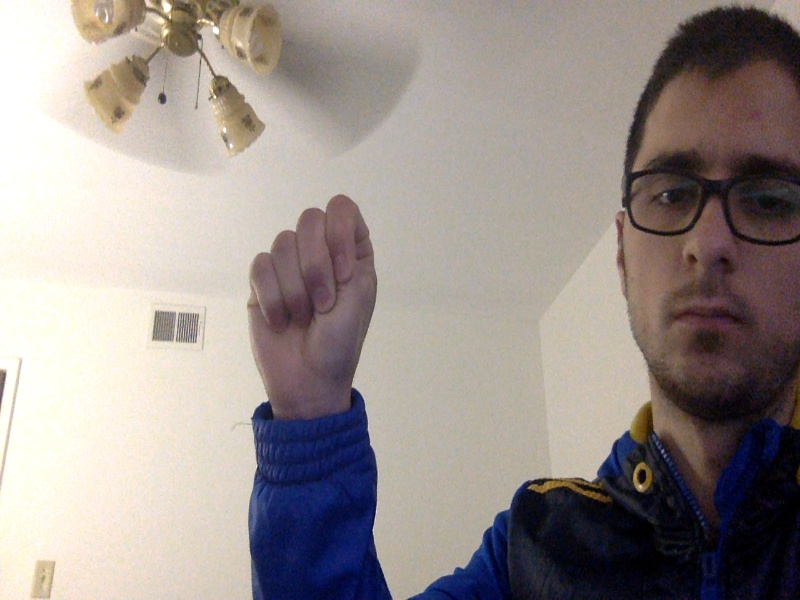0-hand: (247, 194, 378, 403)
